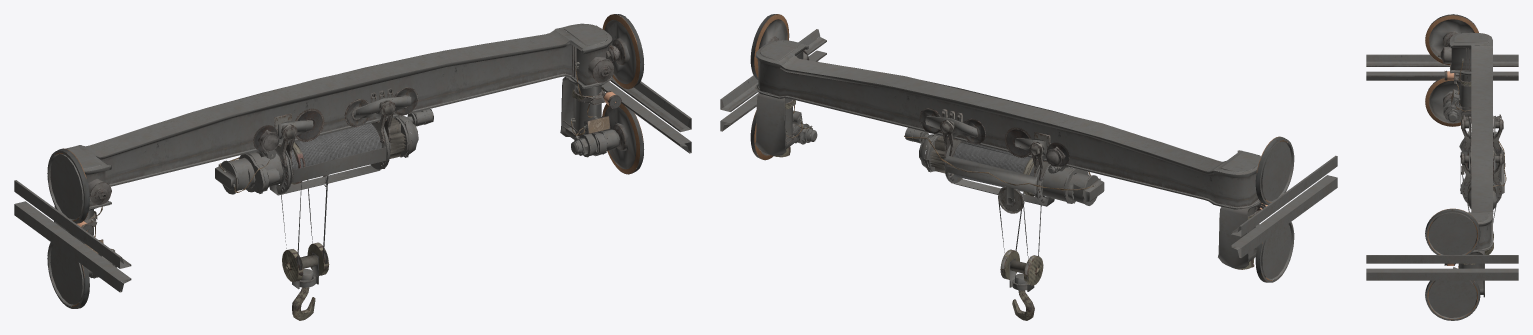
The model's file is crane.glb.
The picture shows the model from 3 angles, left to right: view 1: azimuth 30°, elevation 25°; view 2: azimuth 150°, elevation 25°; view 3: azimuth 270°, elevation 25°; orthographic projection. The views are drawn at different scales.
Parts seen in each view (by area): view 1: crane; view 2: crane; view 3: crane.
Part boxes in pixels (left/top/right/bottom): crane: left=14, top=14, right=691, bottom=320; crane: left=720, top=14, right=1337, bottom=320; crane: left=1366, top=14, right=1518, bottom=320.
Bounding box in the file's own units: 12.49 × 5.13 × 4.
Materials: 2 (2 with a texture image).
